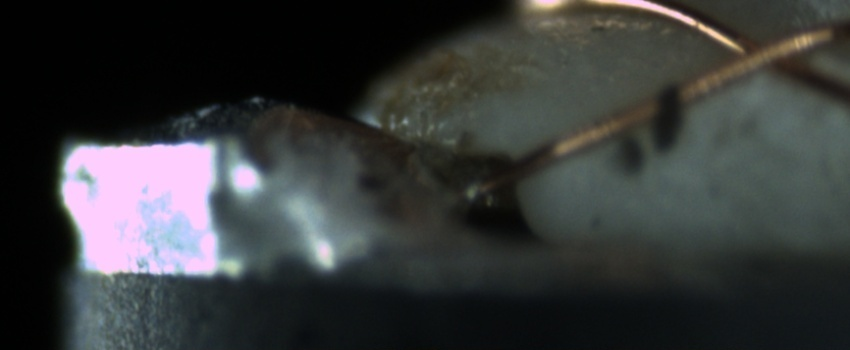CL: (713, 23, 816, 88)
